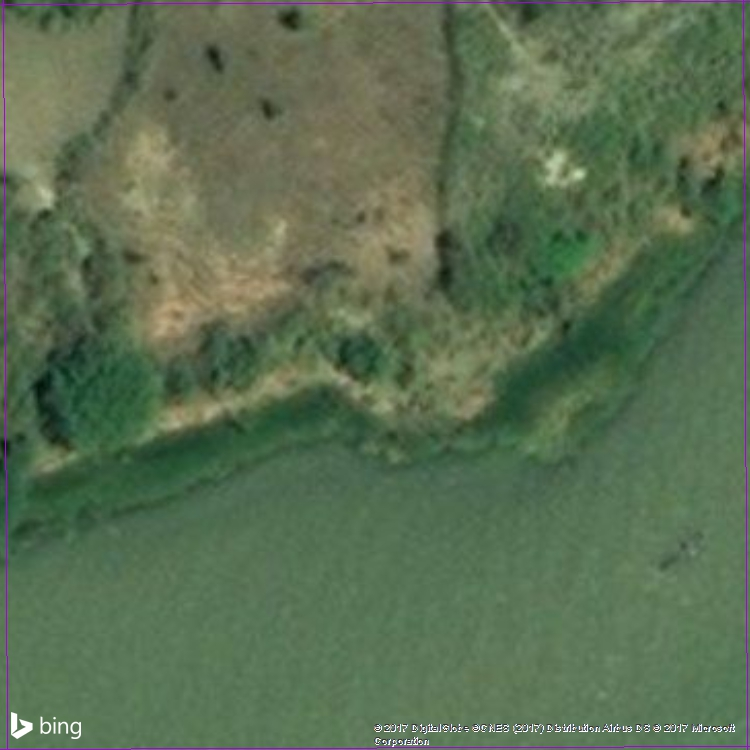boat: (654, 523, 711, 579)
